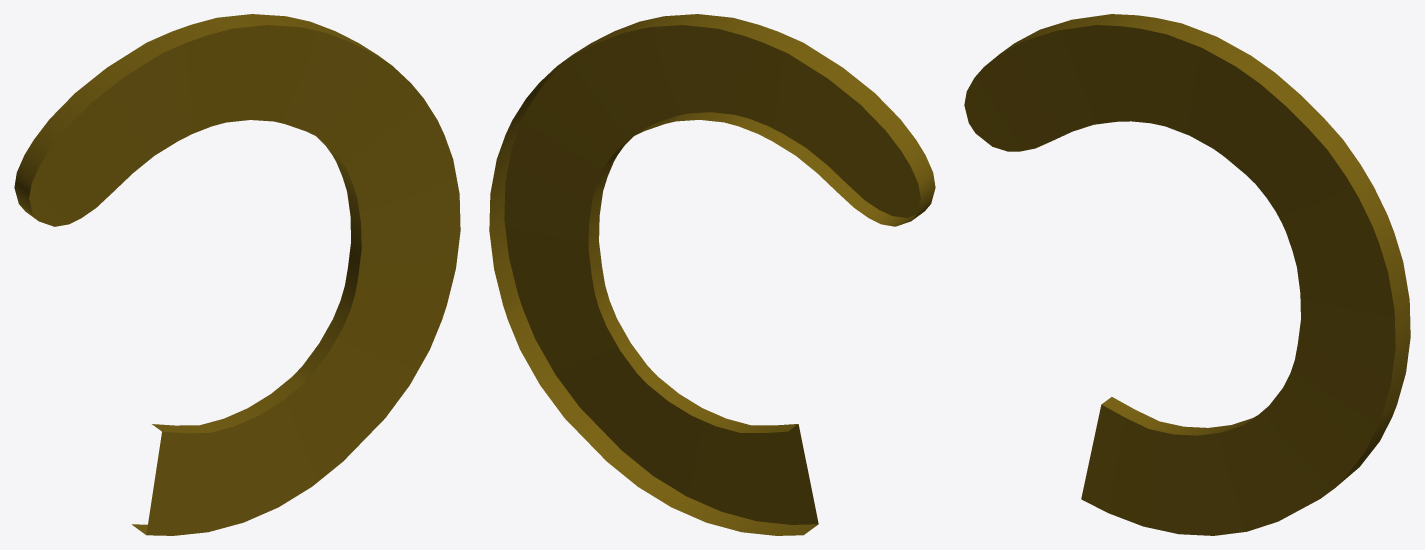
The model's file is Pieza Rota Bastones.fbx.
3 views of the same model, side by side, from view 1: azimuth 30°, elevation 25°; view 2: azimuth 150°, elevation 25°; view 3: azimuth 330°, elevation 25° (orthographic).
Visible parts, largest first — view 1: polySurface38; view 2: polySurface38; view 3: polySurface38.
Boxes of the visible parts, left/top/right/bottom form: polySurface38: left=14, top=14, right=460, bottom=535; polySurface38: left=489, top=14, right=935, bottom=535; polySurface38: left=964, top=14, right=1410, bottom=535.
Bounding box in the file's own units: 2.02 × 2.23 × 0.1225.
